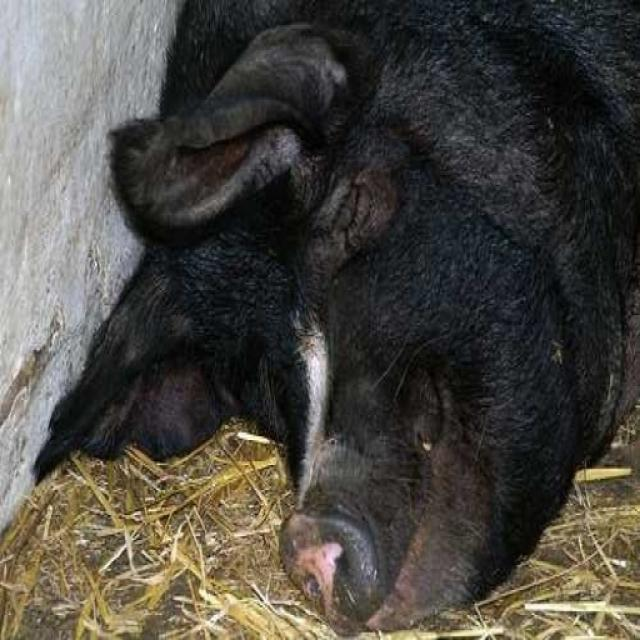pig: (193, 51, 640, 614)
